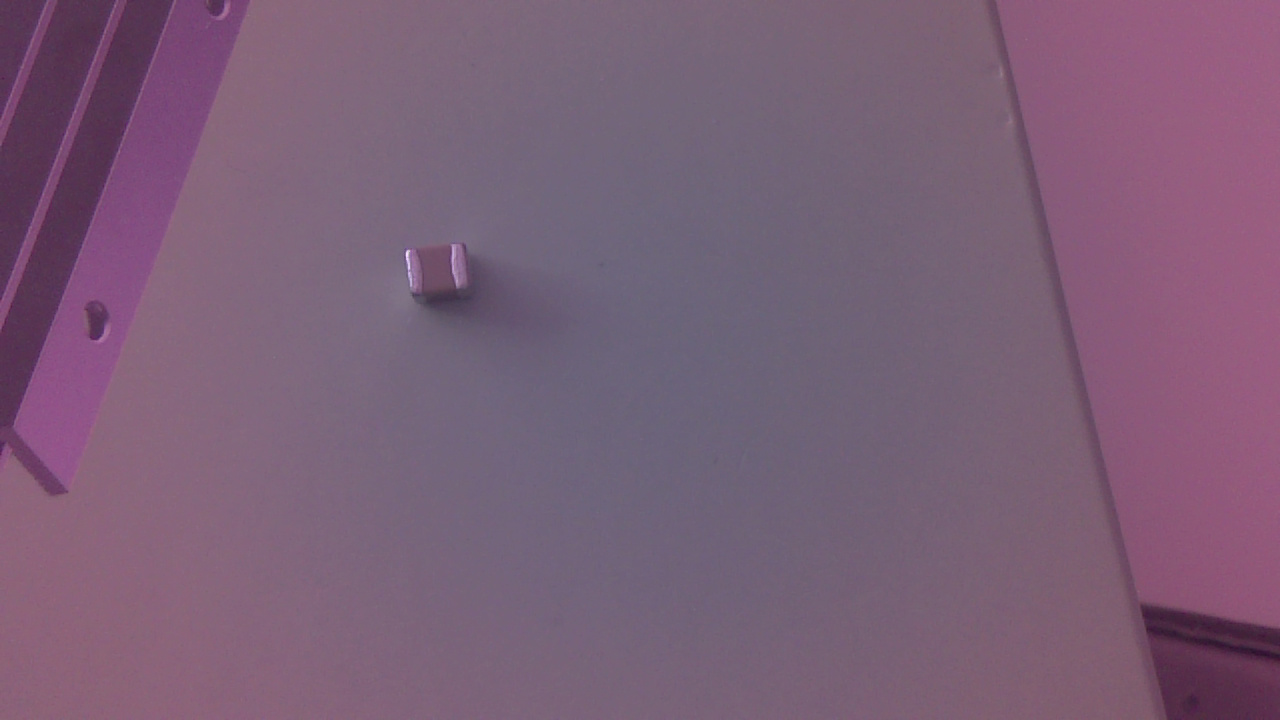Condensator: (398, 240, 485, 314)
